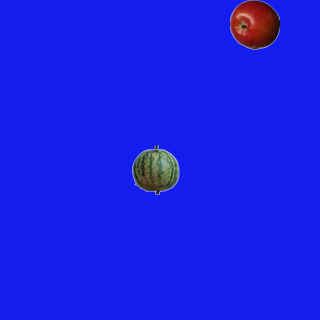Apple Braeburn: (229, 0, 279, 49)
Watermelon: (130, 144, 180, 194)
